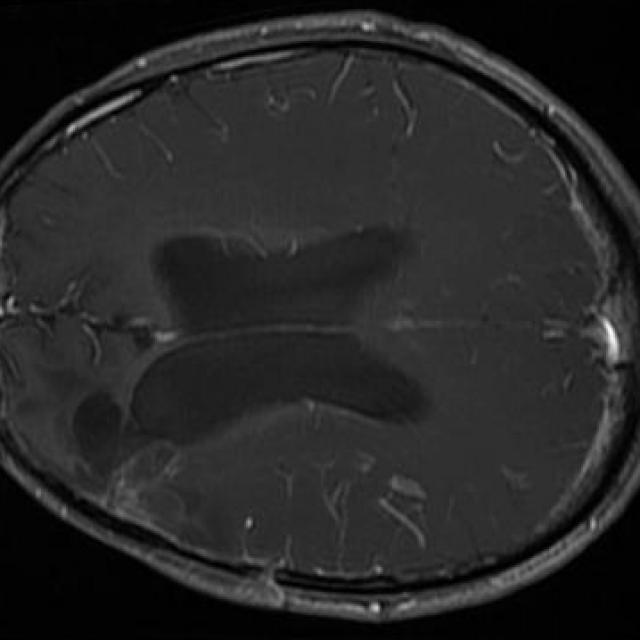glioma: (71, 390, 212, 546)
